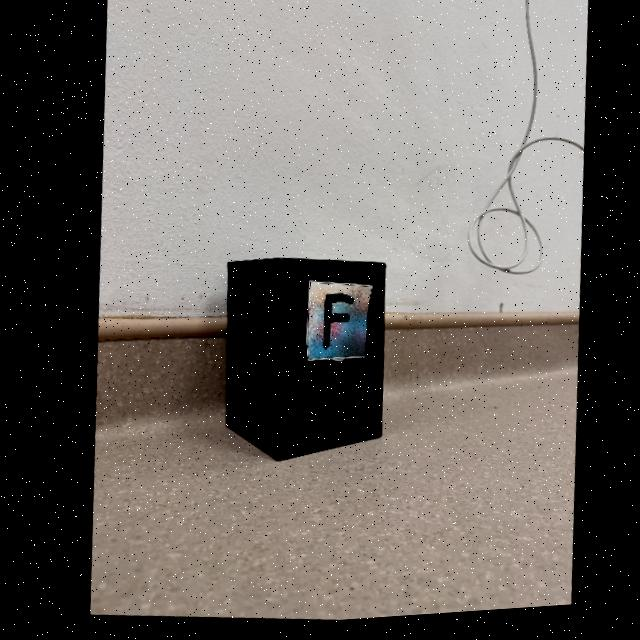F: (317, 298, 350, 353)
